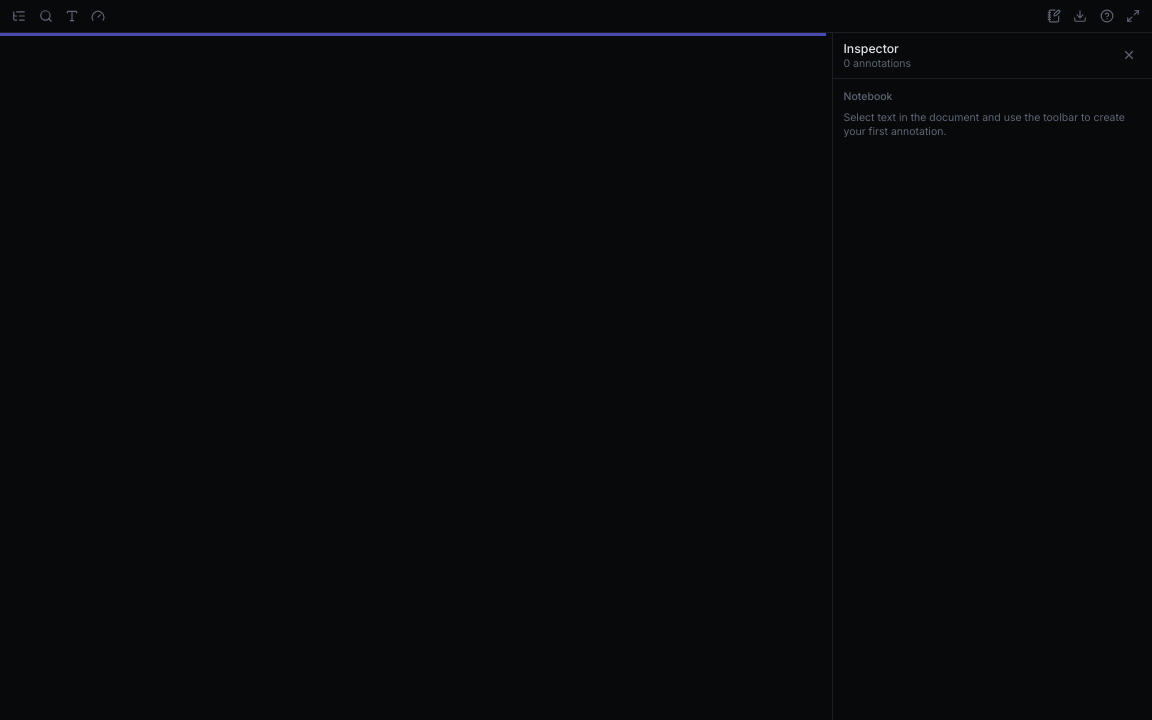
Test: Reader keyboard customization › uses the new key immediately, rejects conflicts and restores defaults
The image size is (1152, 720).
Click the button named "Keyboard shortcuts". click: (1107, 16)
box: [1094,4,1119,28]
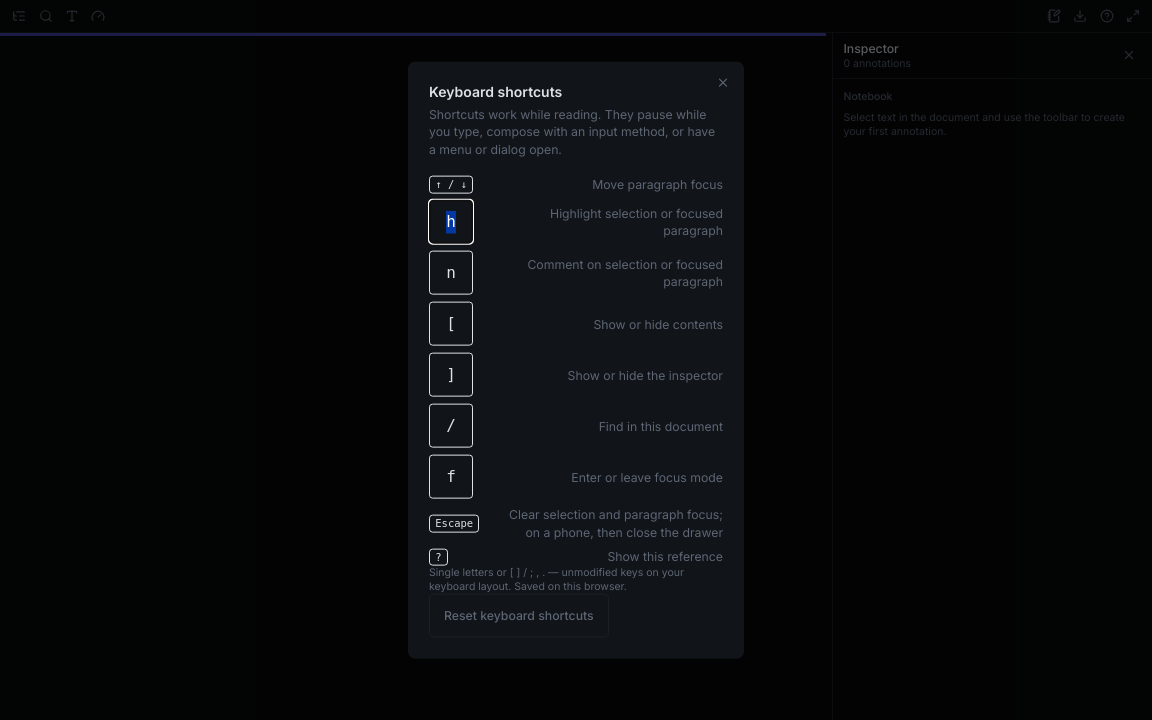
Replace the text in the field named "Enter or leave focus mode" with "x". click: (451, 477)
box: [429,455,473,499]
Press Escape
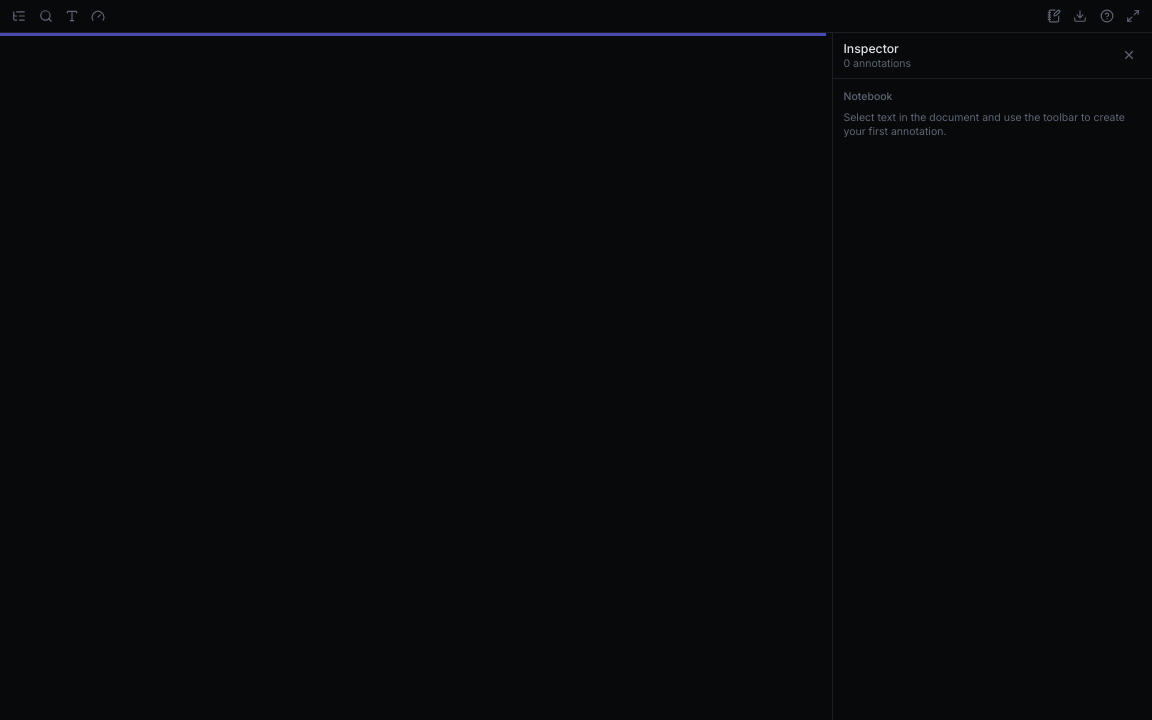
expect the dialog is gone: met
Press f
expect the button named "Focus mode" is shown: met, box [1120,4,1145,28]
Press x
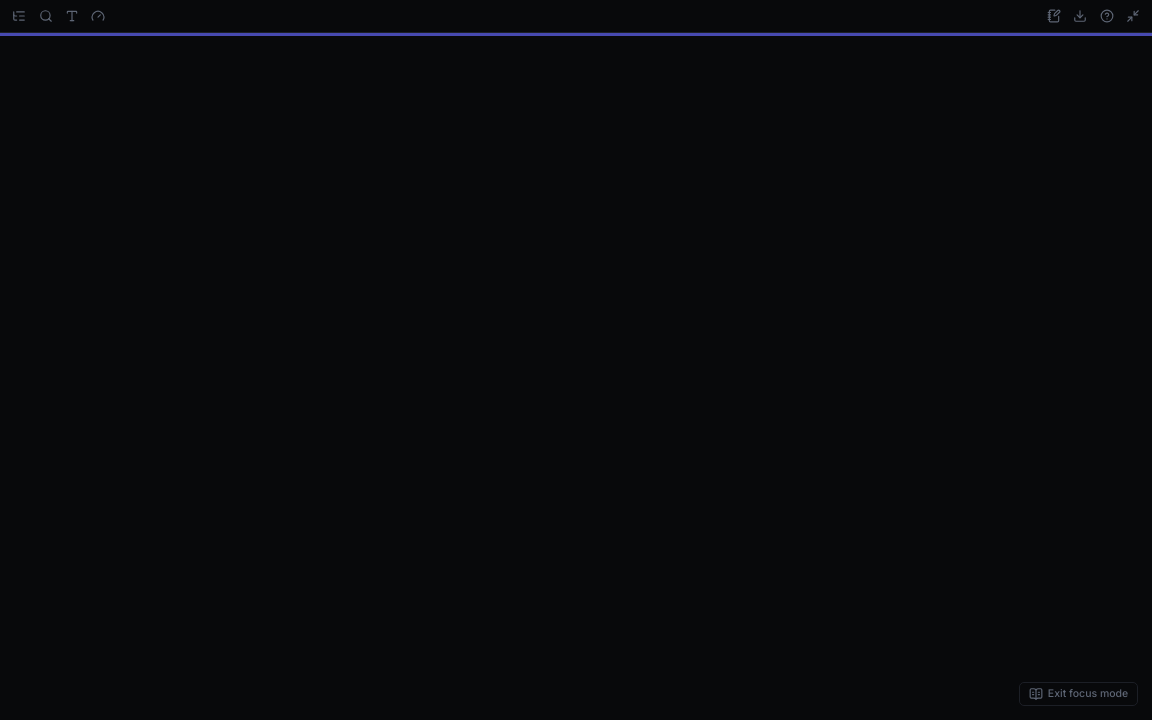
expect the button named "Exit focus mode" is shown: met, box [1120,4,1145,28]
Click the button named "Keyboard shortcuts". click: (1107, 16)
box: [1094,4,1119,28]
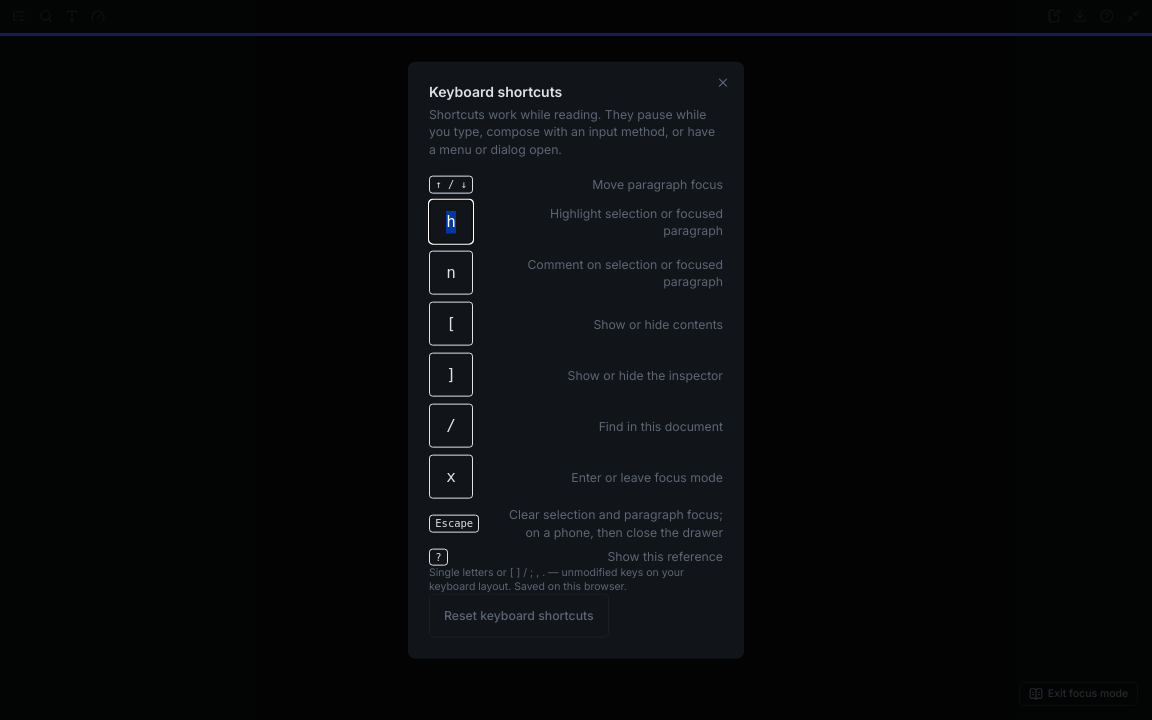
Replace the text in the field named "Enter or leave focus mode" with "h". click: (451, 477)
box: [429,455,473,499]
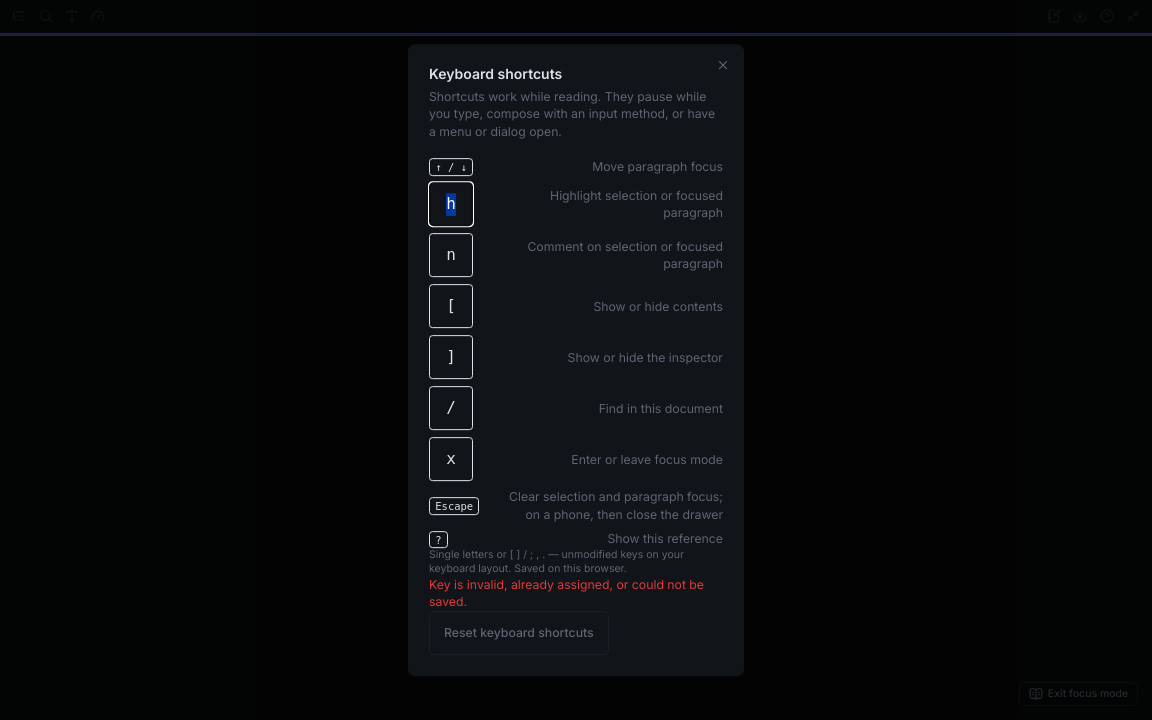
expect the message shows "Key is invalid": met, box [429,577,704,609]
Click the button "Reset keyboard shortcuts". click: (519, 633)
box: [429,611,609,655]
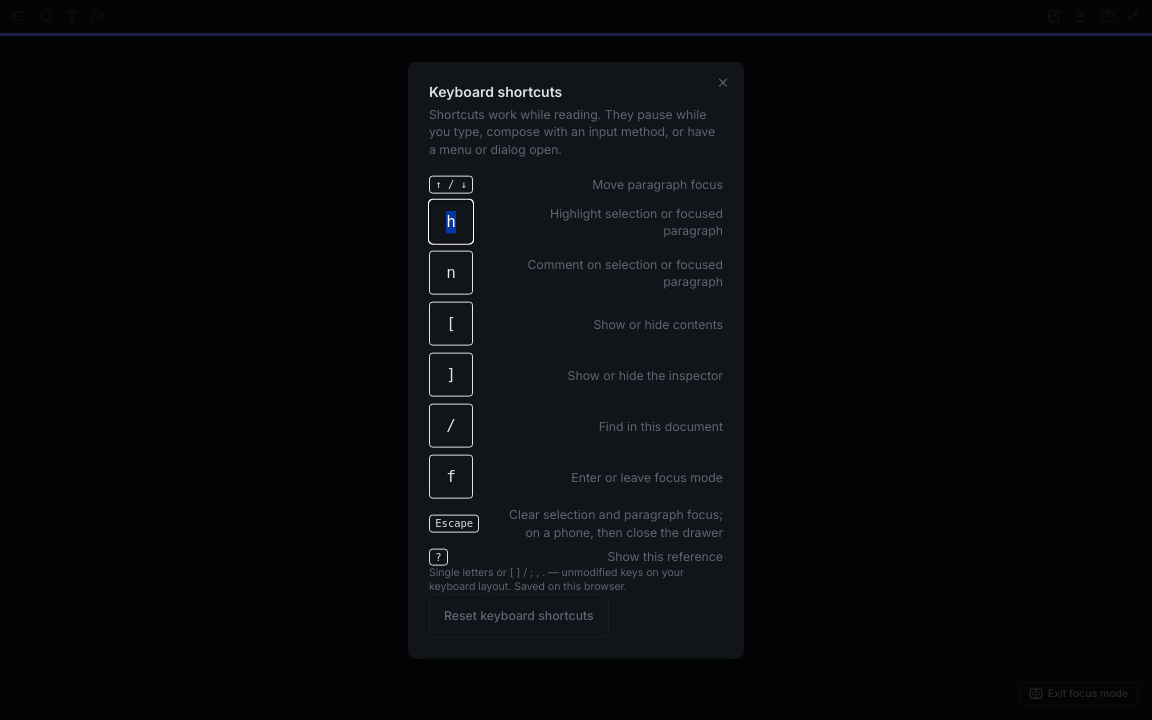
expect the field named "Enter or leave focus mode" holds "f": met, box [429,455,473,499]
